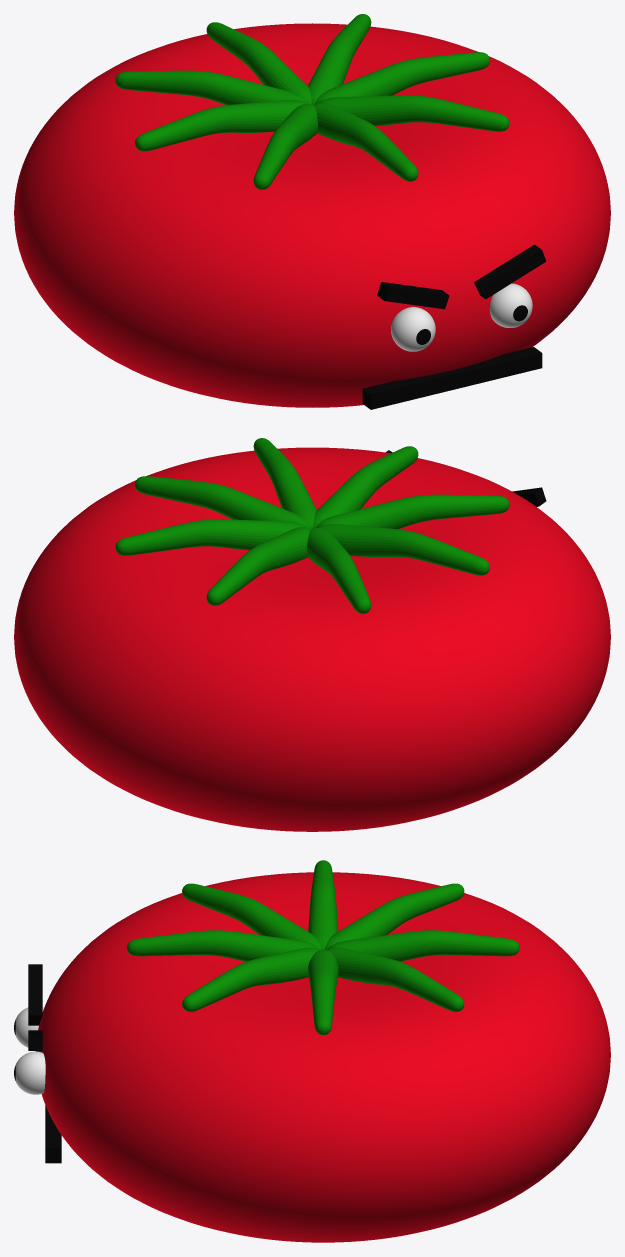
File: robert.fbx
The picture shows the model from 3 angles, top to bottom: view 1: azimuth 30°, elevation 25°; view 2: azimuth 150°, elevation 25°; view 3: azimuth 270°, elevation 25°; orthographic projection. The views are drawn at different scales.
Visible parts, largest first — view 1: Sphere, Plane.003, Plane.001, Cube.001, Sphere.001, Cube; view 2: Sphere, Plane.003, Plane.001; view 3: Sphere, Plane.001, Plane.003, Sphere.001, Cube, Cube.001.
Boxes of the visible parts, x1,y1,x2,y2 form: Sphere: [14, 23, 610, 407]; Plane.003: [135, 22, 489, 181]; Plane.001: [115, 14, 509, 189]; Cube.001: [362, 347, 542, 409]; Sphere.001: [391, 283, 532, 351]; Cube: [377, 244, 546, 309]; Sphere: [14, 447, 610, 831]; Plane.003: [135, 446, 489, 605]; Plane.001: [115, 438, 509, 613]; Sphere: [35, 872, 610, 1242]; Plane.001: [182, 883, 464, 1011]; Plane.003: [127, 860, 519, 1035]; Sphere.001: [14, 1007, 45, 1094]; Cube: [28, 964, 42, 1050]; Cube.001: [45, 1105, 61, 1163].
Size of the model in its own units: 320 by 158 by 332.
